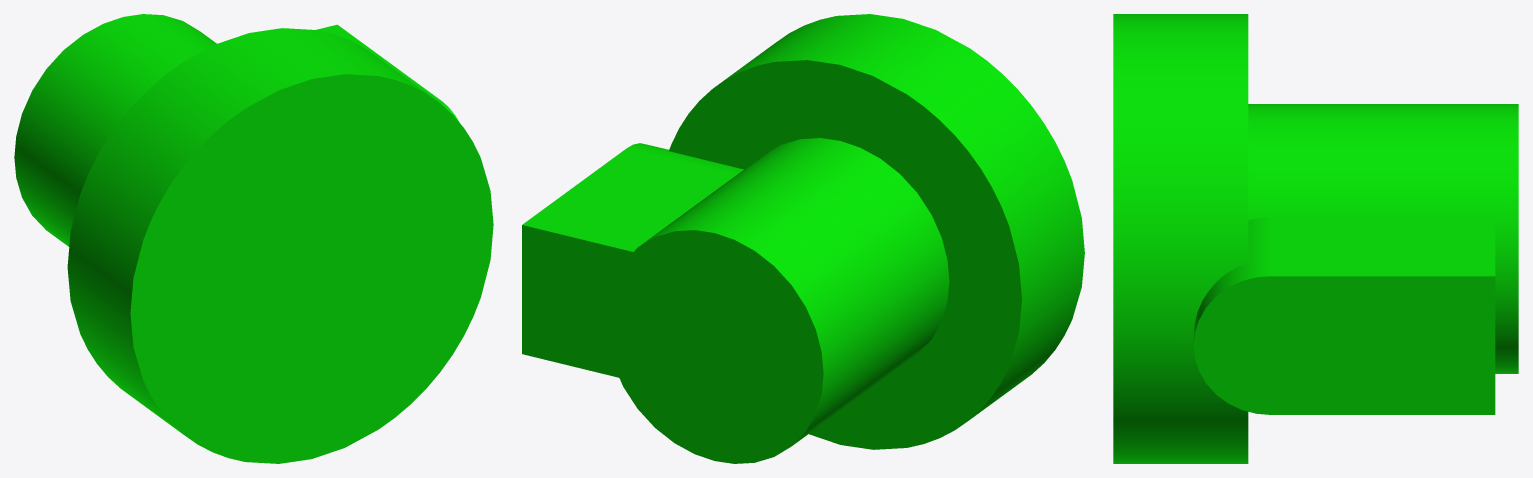
File: yuanzhuyuchangyuanzhuxiangguan.FBX
3 renders of one model, left to right at view 1: azimuth 30°, elevation 25°; view 2: azimuth 150°, elevation 25°; view 3: azimuth 270°, elevation 25°, orthographic. The views are drawn at different scales.
Parts seen in each view (by area): view 1: yuanzhuyuchangyuanzhuxiangguan; view 2: yuanzhuyuchangyuanzhuxiangguan; view 3: yuanzhuyuchangyuanzhuxiangguan.
Boxes of the visible parts, x1=… form: yuanzhuyuchangyuanzhuxiangguan: x1=14, y1=14, x2=493, y2=463; yuanzhuyuchangyuanzhuxiangguan: x1=522, y1=14, x2=1084, y2=463; yuanzhuyuchangyuanzhuxiangguan: x1=1113, y1=14, x2=1518, y2=463.
Size of the model in its own units: 41.73 by 39.37 by 35.43.
